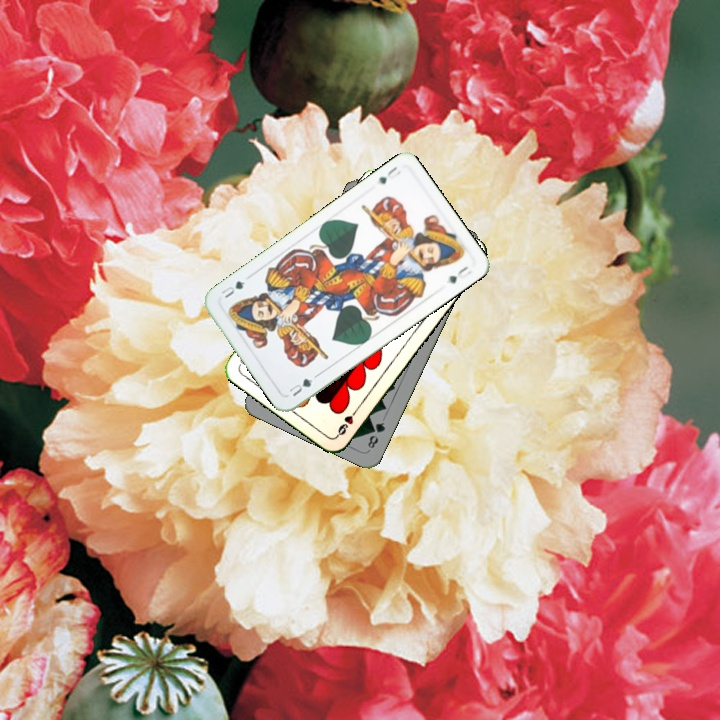G8: (364, 418, 388, 451)
GU: (285, 373, 315, 399), (374, 162, 403, 187)
H9: (332, 404, 361, 439)
